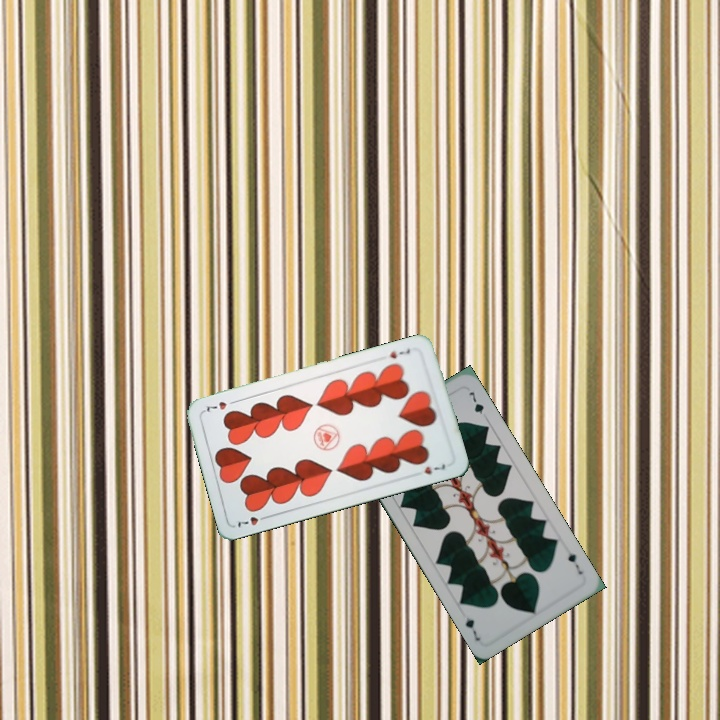G7: (564, 548, 585, 577)
H7: (234, 511, 272, 530), (386, 345, 413, 361)
